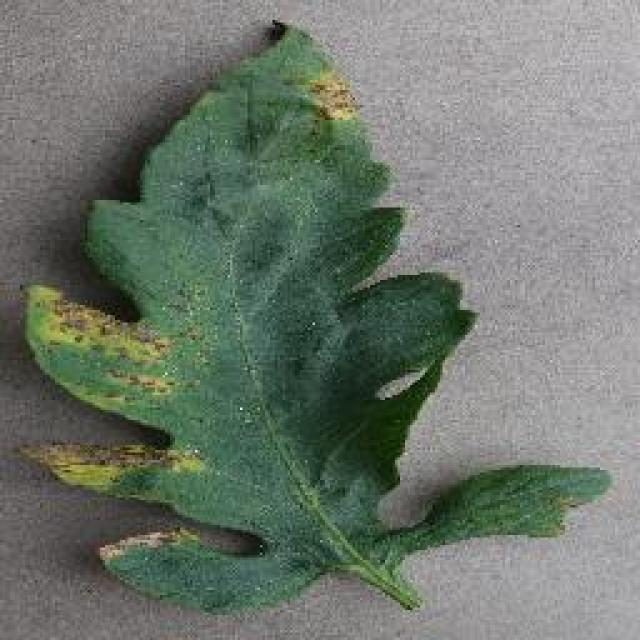Tomato___Bacterial_spot: (20, 19, 611, 619)
